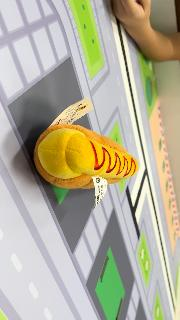hotdog: (34, 124, 138, 190), (89, 140, 139, 180)
